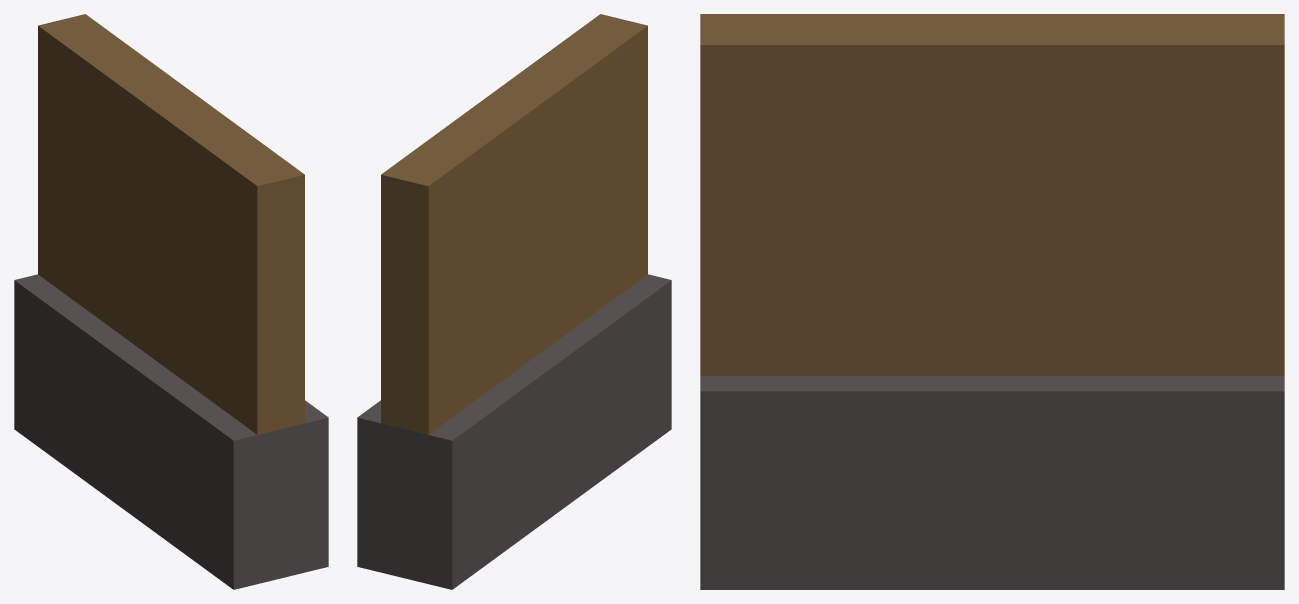
Rendered from wall.gltf.
3 renders of one model, left to right at view 1: azimuth 30°, elevation 25°; view 2: azimuth 150°, elevation 25°; view 3: azimuth 270°, elevation 25°, orthographic. The views are drawn at different scales.
Parts seen in each view (by area): view 1: mesh (×2); view 2: mesh (×2); view 3: mesh (×2).
Part boxes in pixels (left/top/right/bottom): mesh (×2): left=14, top=14, right=328, bottom=589; mesh (×2): left=357, top=14, right=671, bottom=589; mesh (×2): left=700, top=14, right=1284, bottom=589.
Size of the model in its own units: 0.25 by 1 by 1.
1 material, 1 textured.
